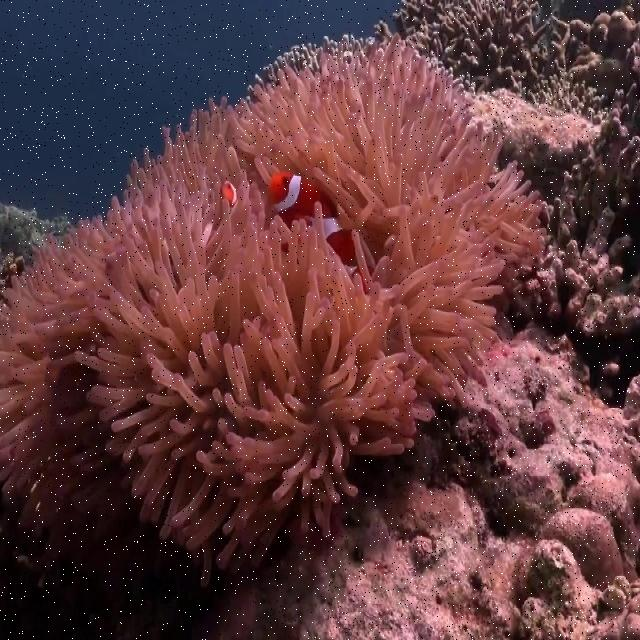fish: (268, 171, 357, 267), (222, 179, 237, 205)
reefs: (0, 34, 547, 586), (220, 310, 639, 637), (500, 84, 639, 336), (371, 1, 639, 97)
